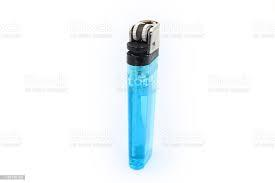lighter: (128, 20, 160, 170)
